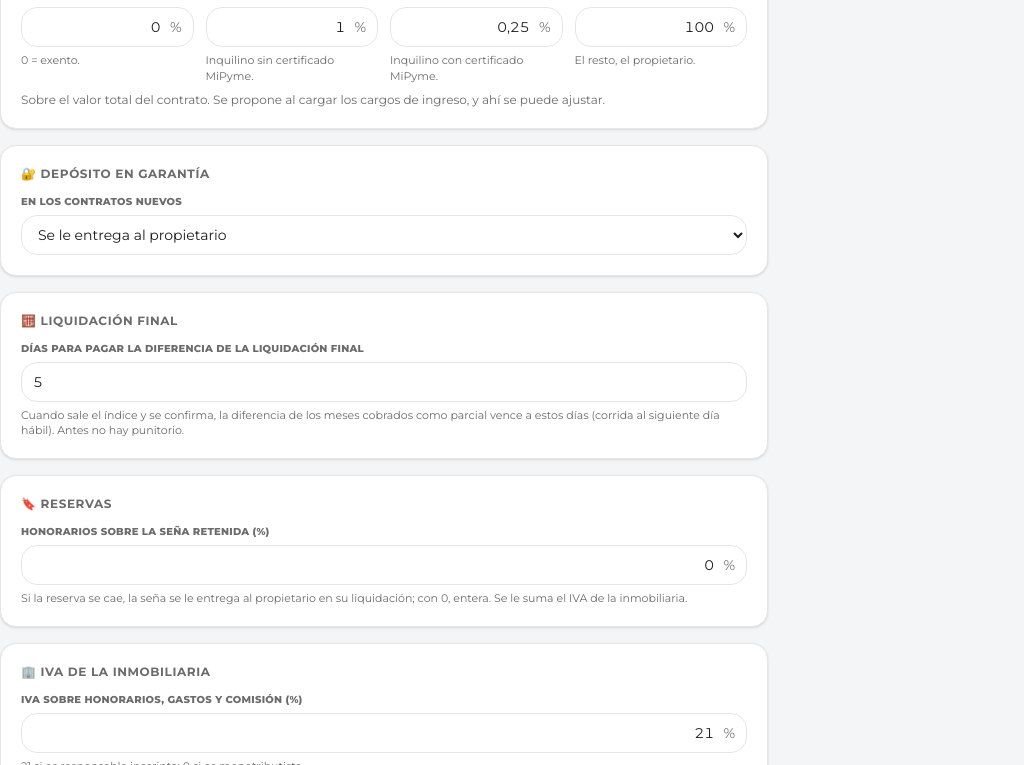
Test: ConfiguracionForm — Entrega A de Vacker (Florencia, 15/10/2026) › regla 133: los días para pagar la diferencia de la liquidación final, de 0 a 60
The image size is (1024, 765).
(page scrolled)
Replace the text in the field labelled "Días para pagar la diferencia" with "10": (384, 382) [21,362,747,402]
(page scrolled)
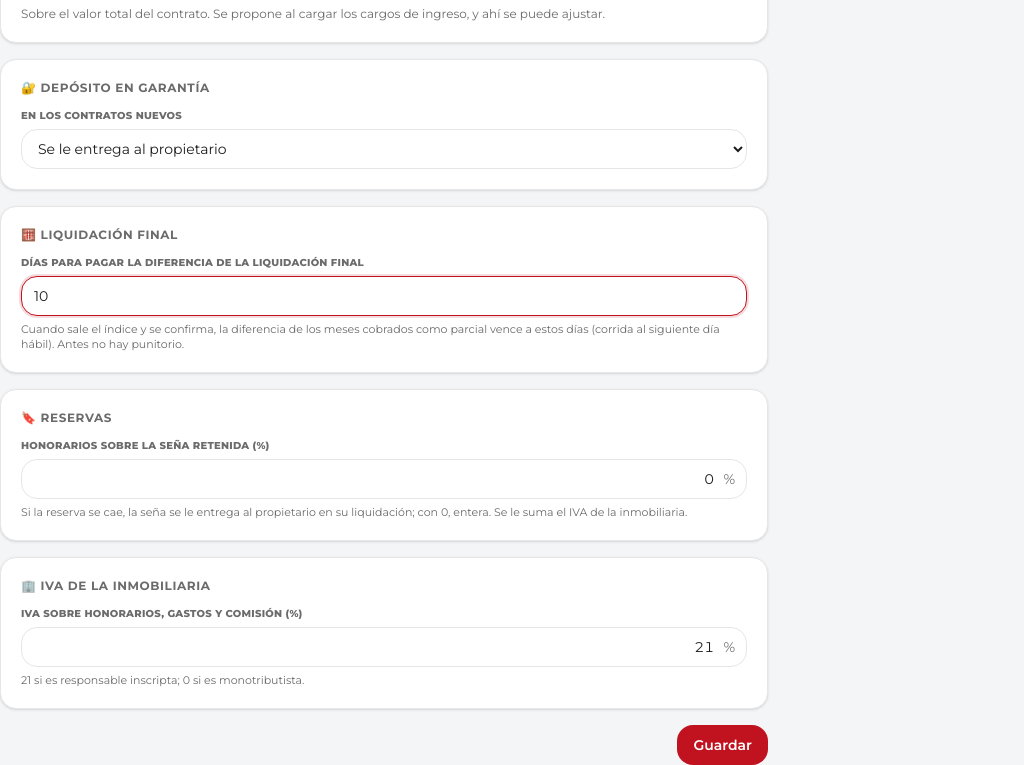
Click the button "Guardar": (723, 745) [677,725,768,764]
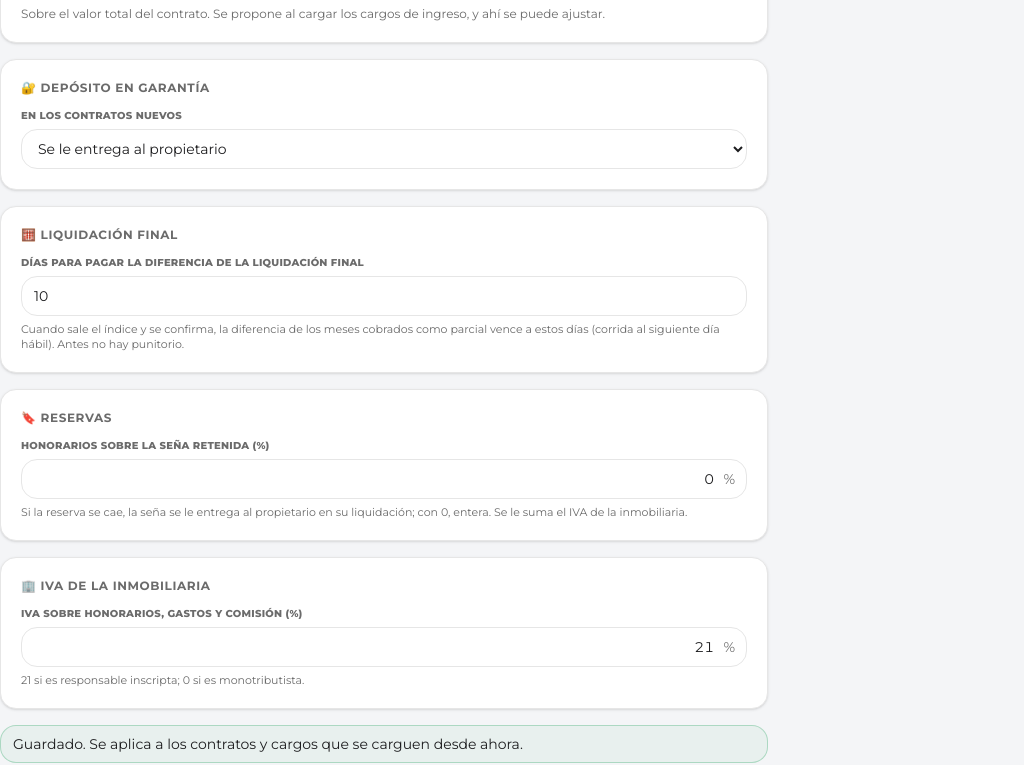
Replace the text in the field labelled "Días para pagar la diferencia" with "90": (384, 296) [21,276,747,316]
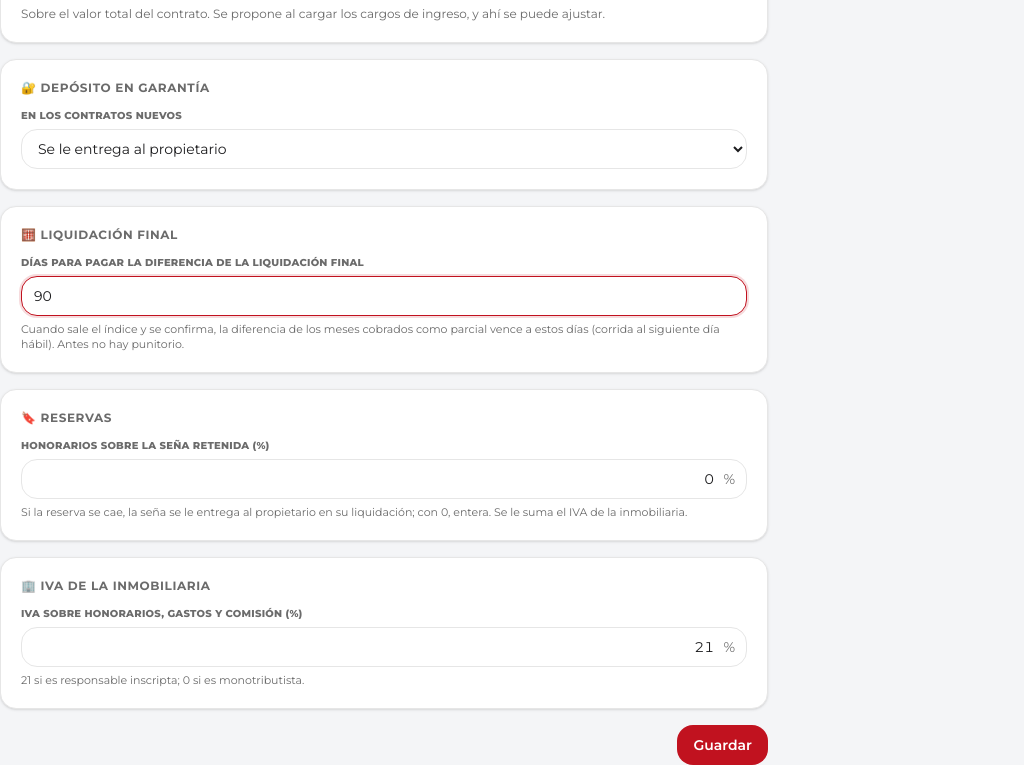
Press Tab
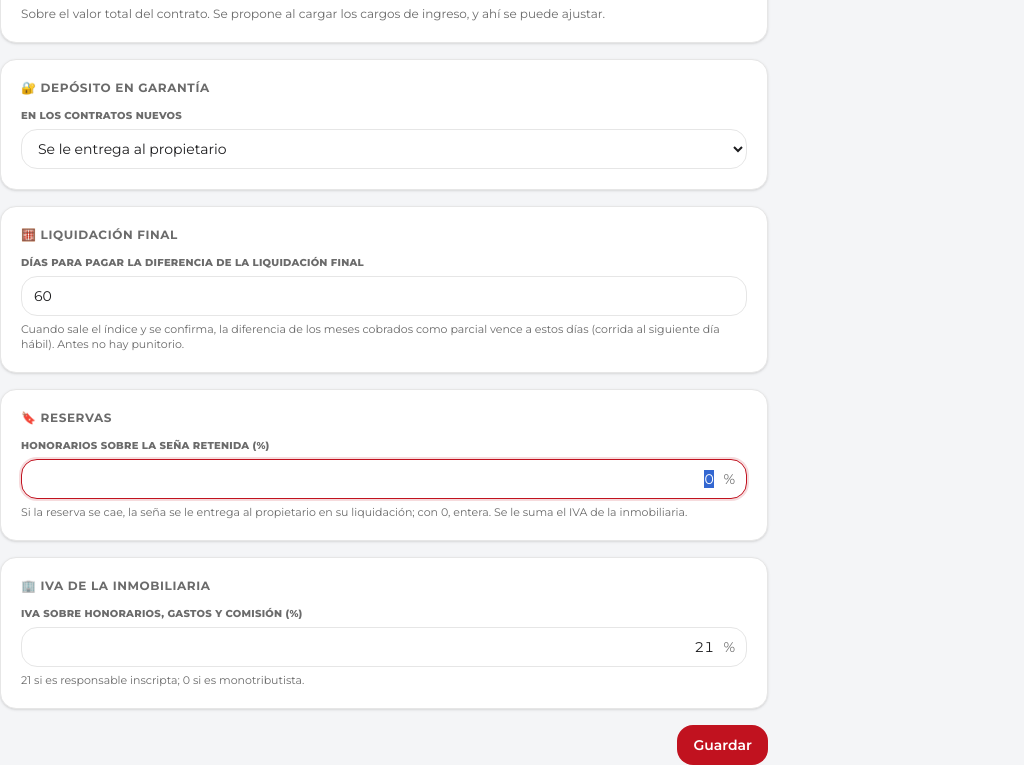
Check: the field labelled "Días para pagar la diferencia" holds "60", box [21,276,747,316]
